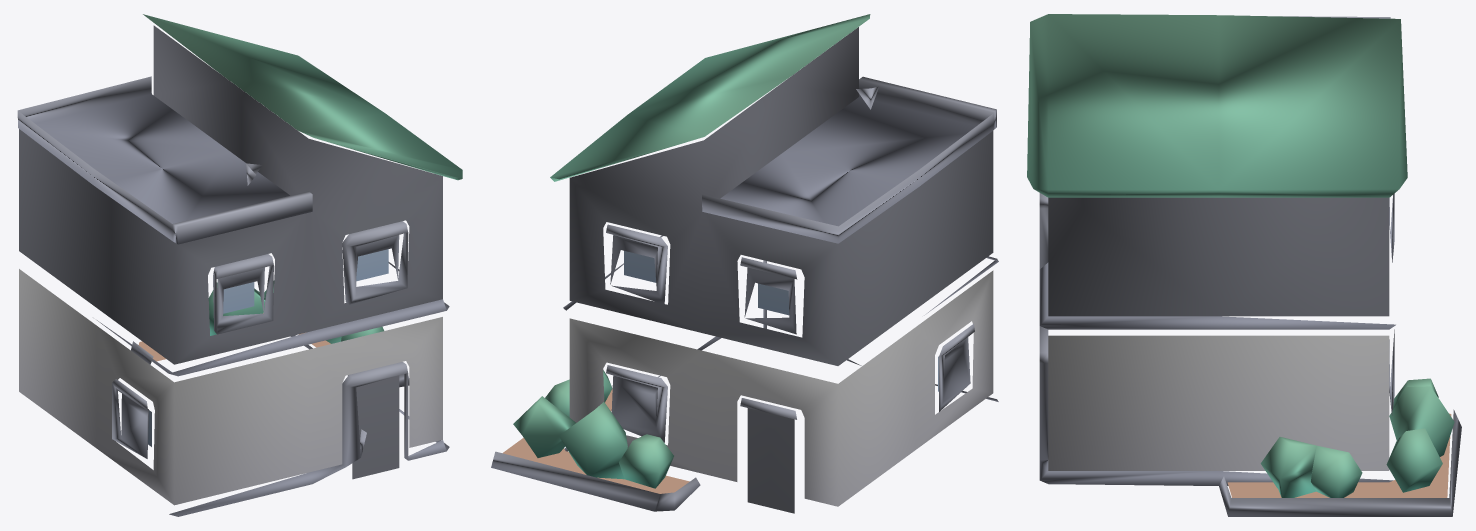
3 renders of one model, left to right at view 1: azimuth 30°, elevation 25°; view 2: azimuth 150°, elevation 25°; view 3: azimuth 270°, elevation 25°, orthographic. The views are drawn at different scales.
Bounding box in the file's own units: 7.75 × 8.25 × 8.16.
